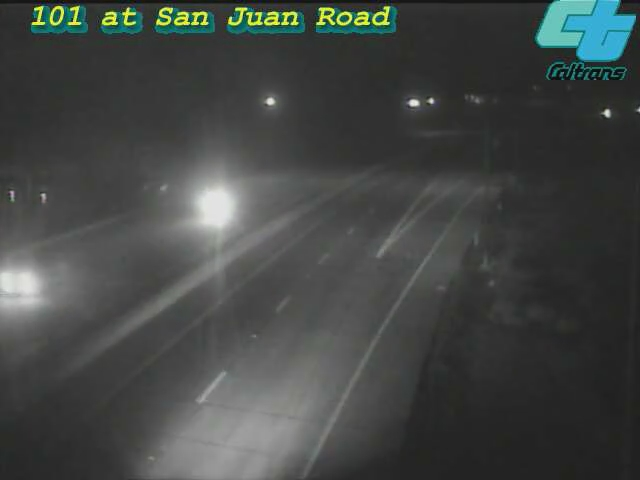vehicle: (182, 164, 262, 244), (1, 245, 59, 325), (581, 87, 631, 137)
